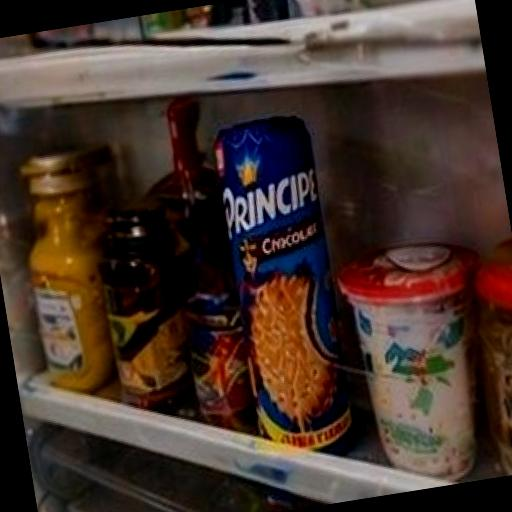prince: (171, 58, 458, 512)
